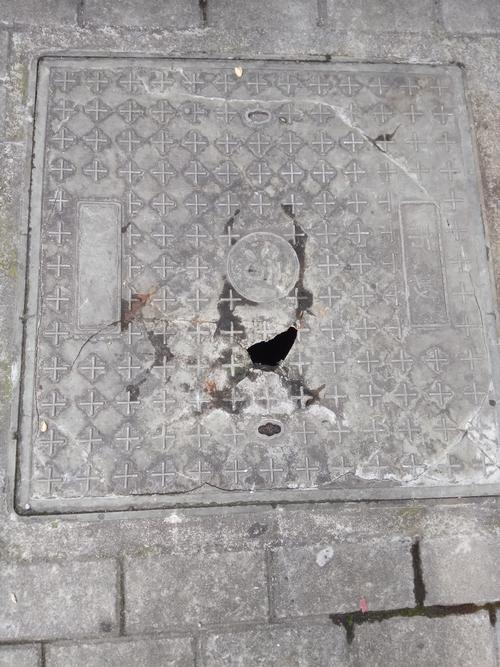broke: (9, 22, 499, 553)
